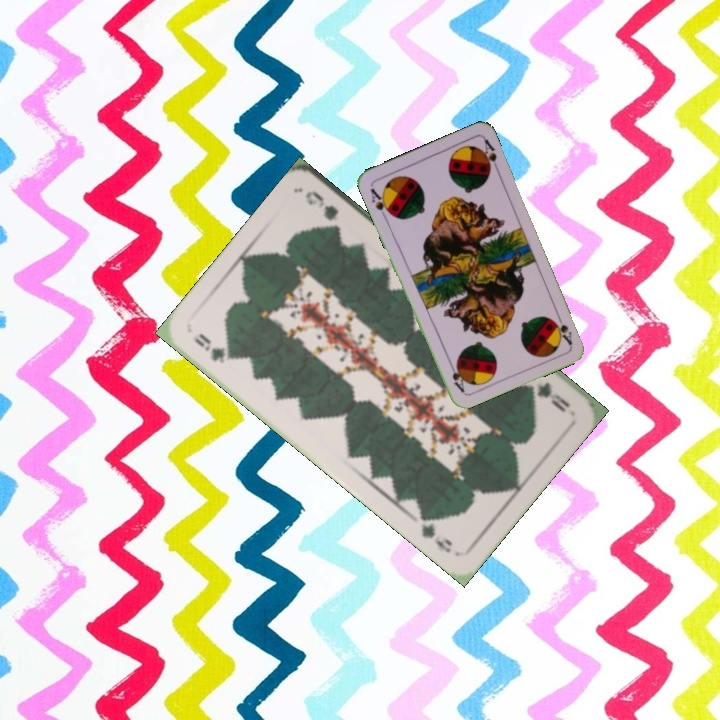G9: (524, 378, 573, 416), (190, 329, 240, 366)
SA: (366, 184, 395, 221), (549, 309, 575, 348)
